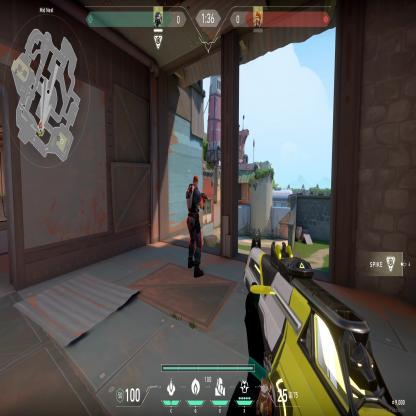enemy: (184, 172, 206, 278)
